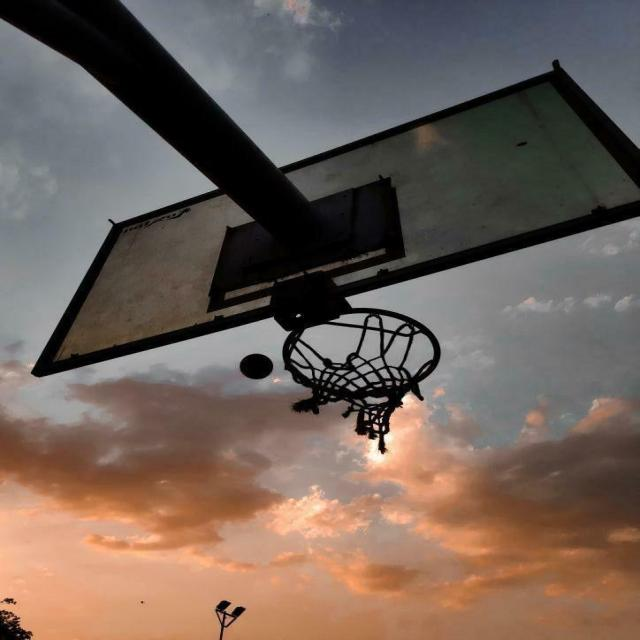hoop: (281, 296, 472, 431)
